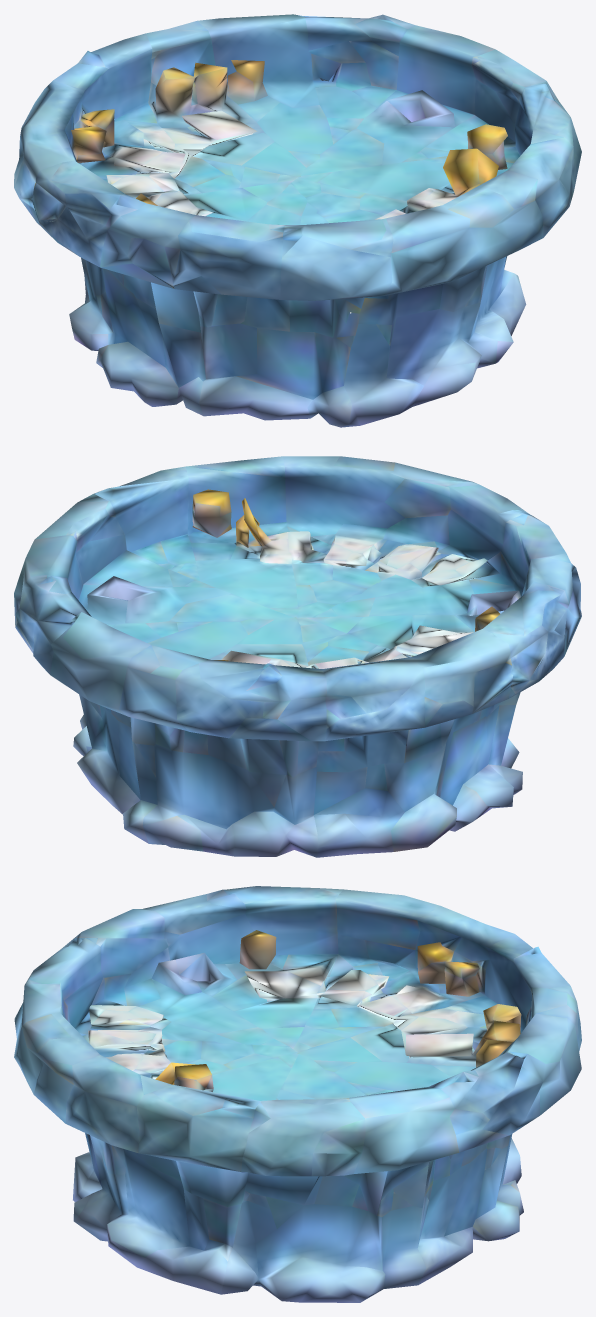
The model's file is pv-blackjack.glb.
3 renders of one model, top to bottom at view 1: azimuth 30°, elevation 25°; view 2: azimuth 150°, elevation 25°; view 3: azimuth 270°, elevation 25°, orthographic.
Visible parts, largest first — view 1: tripo_node_f4873593-583c-4166-9b8f-873786e14861; view 2: tripo_node_f4873593-583c-4166-9b8f-873786e14861; view 3: tripo_node_f4873593-583c-4166-9b8f-873786e14861.
Part boxes in pixels (x1,y1,x2,y2): tripo_node_f4873593-583c-4166-9b8f-873786e14861: (14, 14, 581, 427); tripo_node_f4873593-583c-4166-9b8f-873786e14861: (14, 456, 581, 857); tripo_node_f4873593-583c-4166-9b8f-873786e14861: (14, 886, 581, 1302).
Size of the model in its own units: 0.9733 by 0.428 by 0.9729.
Materials: 1 (1 with a texture image).
